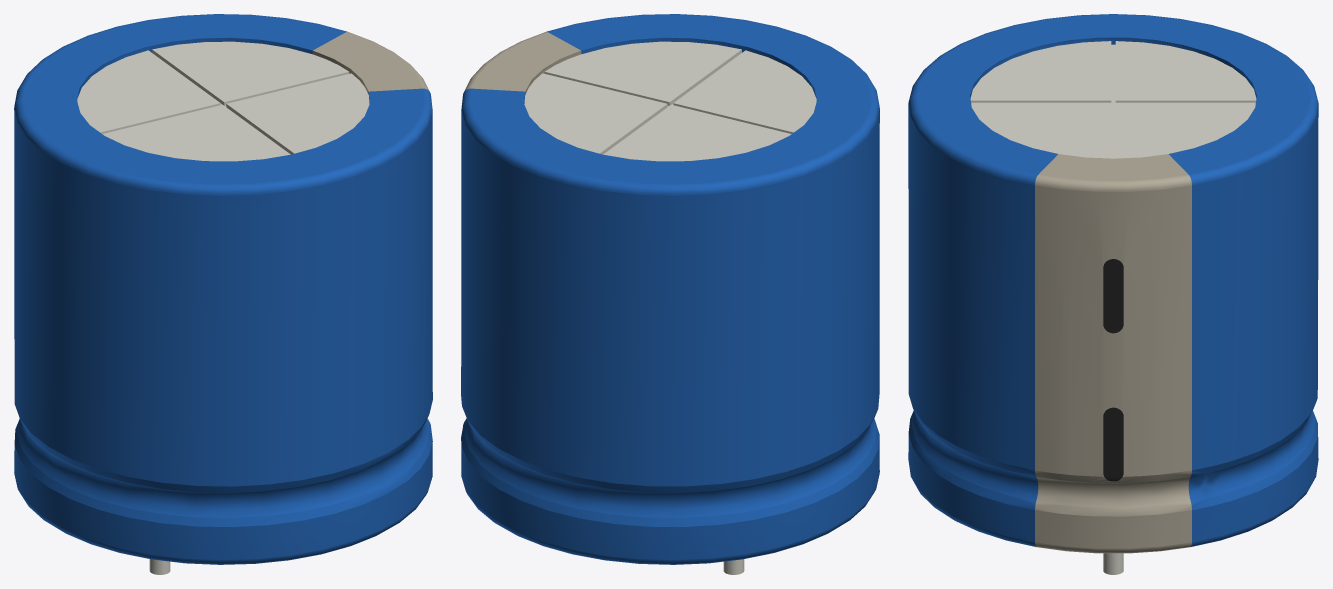
Rendered from kc-cp_radial_d10.0mm_p3.50mm.glb.
The picture shows the model from 3 angles, left to right: view 1: azimuth 30°, elevation 25°; view 2: azimuth 150°, elevation 25°; view 3: azimuth 270°, elevation 25°; orthographic projection. The views are drawn at different scales.
Parts seen in each view (by area): view 1: 0_0.16666666666666666_0.5_0, 0.6666666666666666_0.6666666666666666_0.5833333333333334_0.8, 0.4166666666666667_0.4166666666666667_0.3333333333333333_0; view 2: 0_0.16666666666666666_0.5_0, 0.6666666666666666_0.6666666666666666_0.5833333333333334_0.8, 0.4166666666666667_0.4166666666666667_0.3333333333333333_0; view 3: 0_0.16666666666666666_0.5_0, 0.4166666666666667_0.4166666666666667_0.3333333333333333_0, 0.6666666666666666_0.6666666666666666_0.5833333333333334_0.8, 0_0_0_0.
Boxes of the visible parts, bbox=[...] form: 0_0.16666666666666666_0.5_0: bbox=[14, 14, 432, 564]; 0.6666666666666666_0.6666666666666666_0.5833333333333334_0.8: bbox=[77, 41, 369, 574]; 0.4166666666666667_0.4166666666666667_0.3333333333333333_0: bbox=[312, 32, 429, 420]; 0_0.16666666666666666_0.5_0: bbox=[461, 14, 879, 564]; 0.6666666666666666_0.6666666666666666_0.5833333333333334_0.8: bbox=[524, 41, 816, 574]; 0.4166666666666667_0.4166666666666667_0.3333333333333333_0: bbox=[464, 32, 581, 421]; 0_0.16666666666666666_0.5_0: bbox=[908, 14, 1318, 546]; 0.4166666666666667_0.4166666666666667_0.3333333333333333_0: bbox=[1035, 154, 1191, 553]; 0.6666666666666666_0.6666666666666666_0.5833333333333334_0.8: bbox=[970, 41, 1256, 574]; 0_0_0_0: bbox=[1103, 259, 1123, 481].
Bounding box in the file's own units: 1 × 1.2 × 0.9998.
